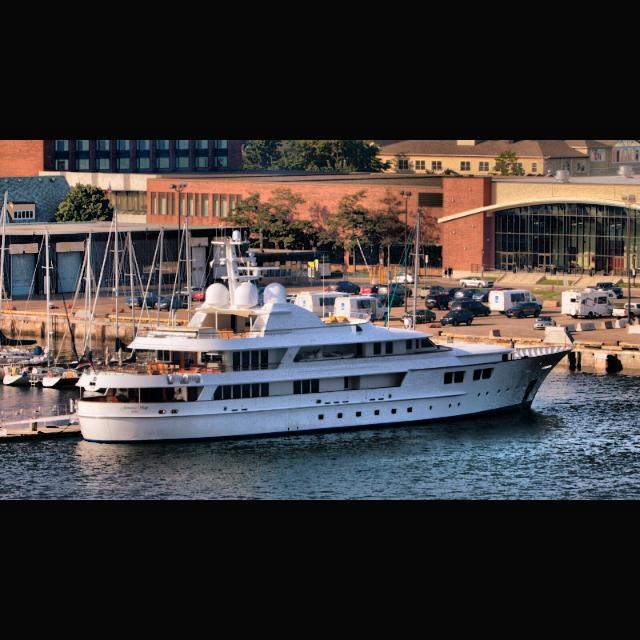yacht: (76, 228, 578, 444)
